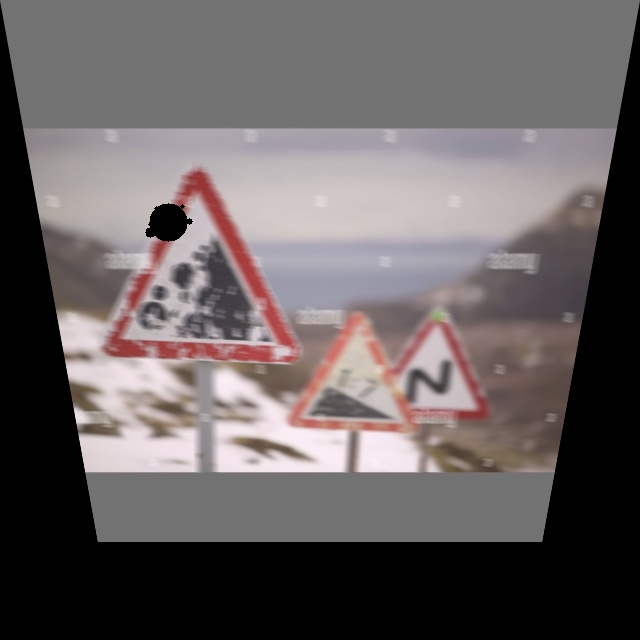Falling_Rocks: (87, 166, 289, 361)
